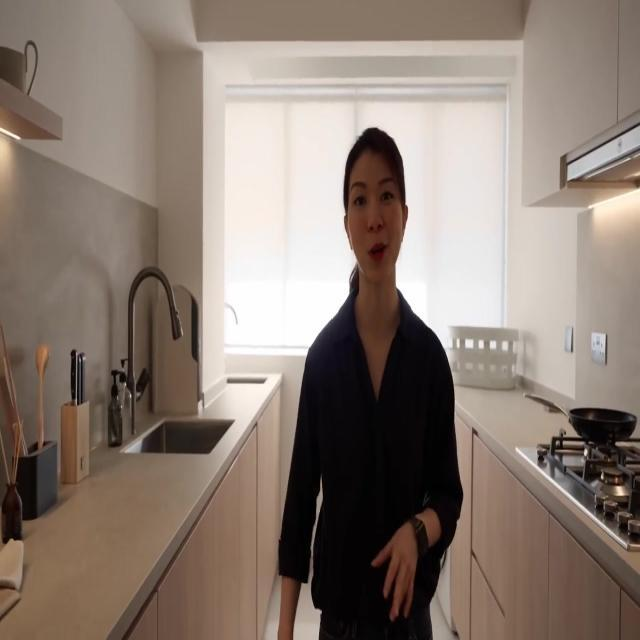person: (276, 125, 464, 639)
